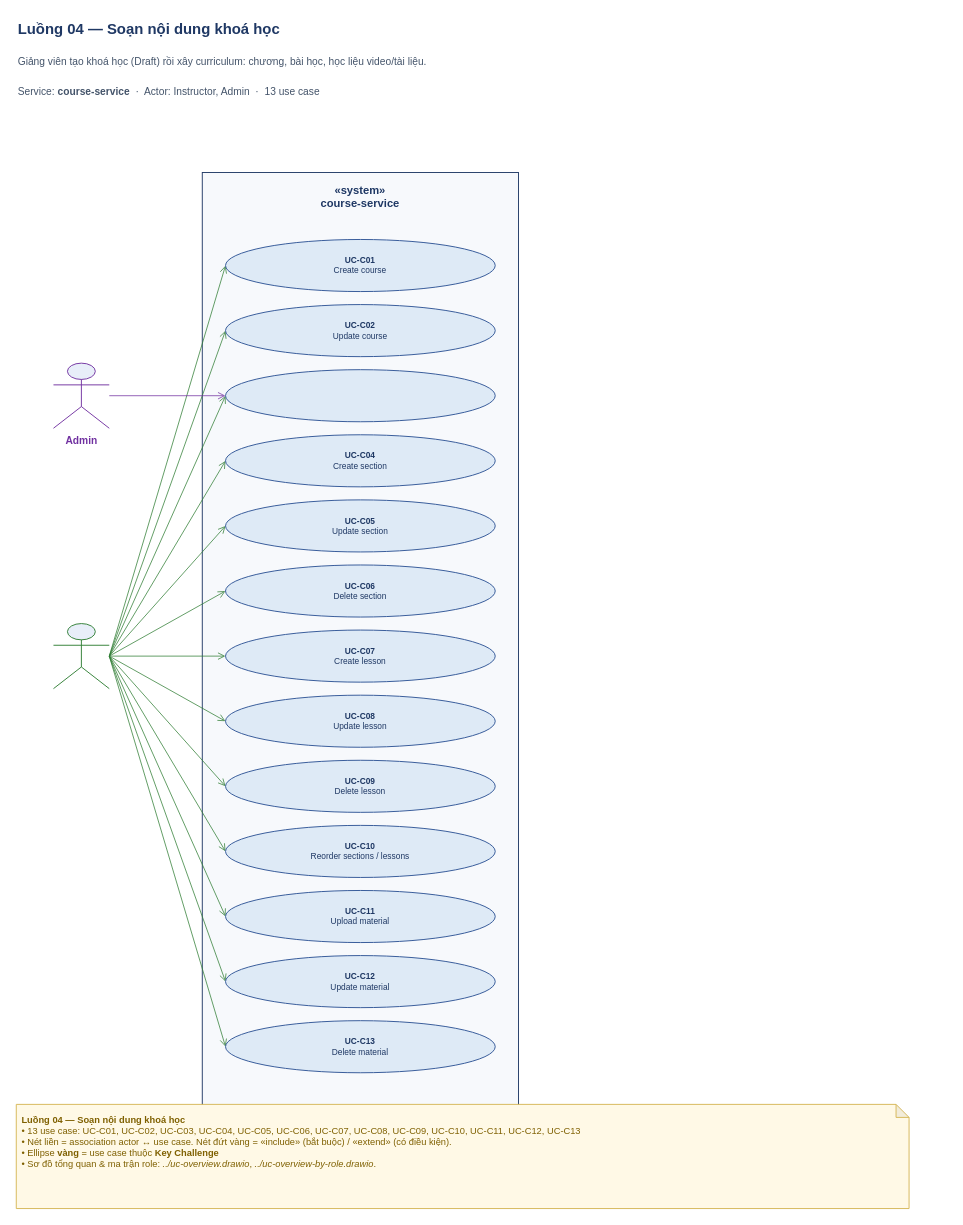
Some shapes in this 963 by 1225 pixel diagram are drawn without their labels. Each missing label, with the centre of its shape:
"Instructor" goes at pixel 81 656.
"UC-C03 Delete course" goes at pixel 360 395.
